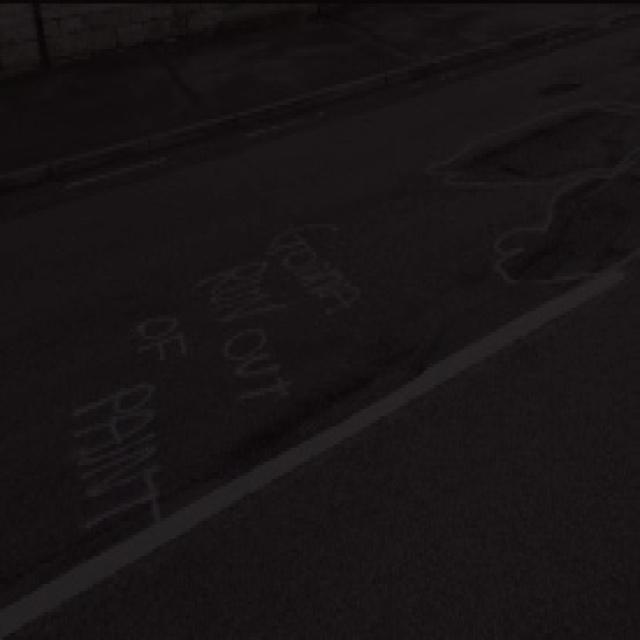Pothole: (483, 186, 640, 284), (432, 110, 640, 180)
